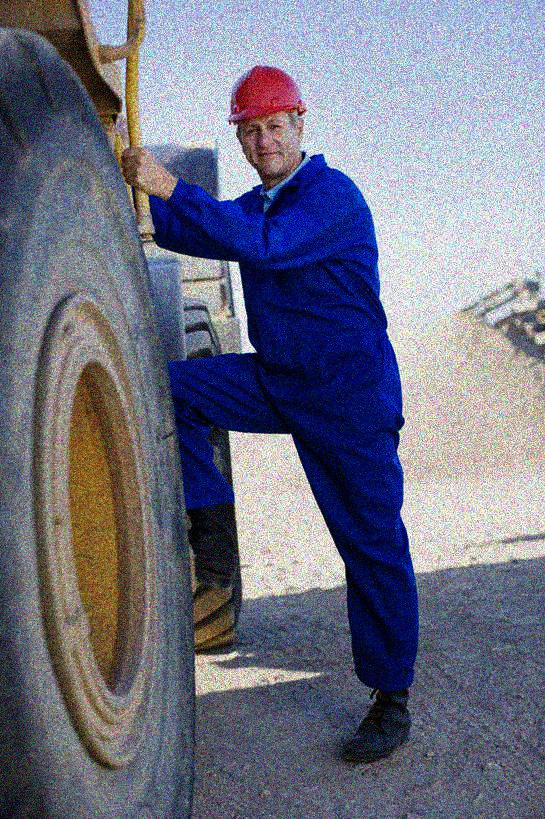helmet: (225, 62, 305, 174)
